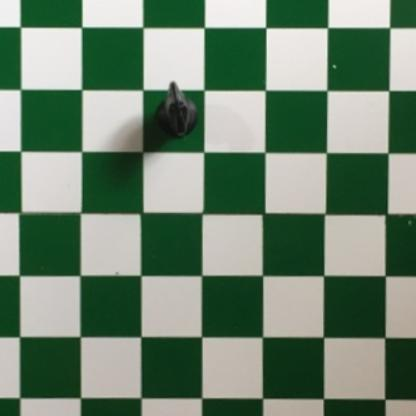black-knight: (154, 80, 199, 142)
